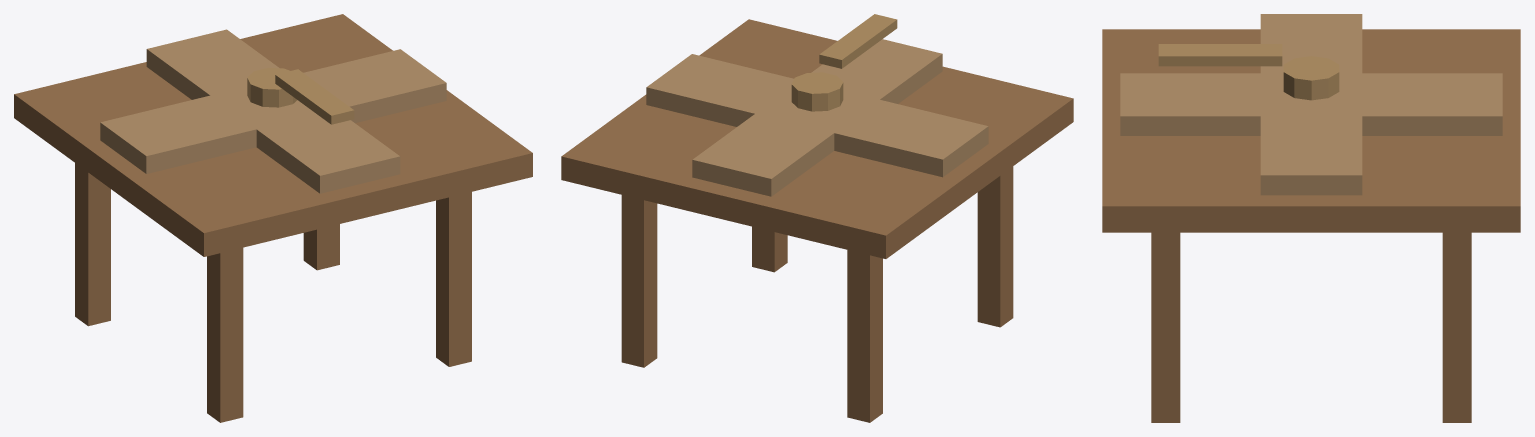
The model's file is vf_splitter.glb.
3 renders of one model, left to right at view 1: azimuth 30°, elevation 25°; view 2: azimuth 150°, elevation 25°; view 3: azimuth 270°, elevation 25°, orthographic. The views are drawn at different scales.
Parts seen in each view (by area): view 1: Static_Oak, Static_OakLight, Selector_Bronze, Static_Bronze; view 2: Static_Oak, Static_OakLight, Selector_Bronze, Static_Bronze; view 3: Static_Oak, Static_OakLight, Selector_Bronze, Static_Bronze.
Boxes of the visible parts, x1,y1,x2,y2 form: Static_Oak: (14,14,532,422); Static_OakLight: (100,29,446,193); Selector_Bronze: (275,69,354,124); Static_Bronze: (247,67,296,107); Static_Oak: (561,19,1073,422); Static_OakLight: (646,39,988,196); Selector_Bronze: (819,14,897,68); Static_Bronze: (791,72,843,111); Static_Oak: (1102,29,1520,422); Static_OakLight: (1120,14,1502,195); Selector_Bronze: (1158,44,1282,66); Static_Bronze: (1283,56,1339,100).
Bounding box in the file's own units: 1.15 × 0.925 × 1.15.
